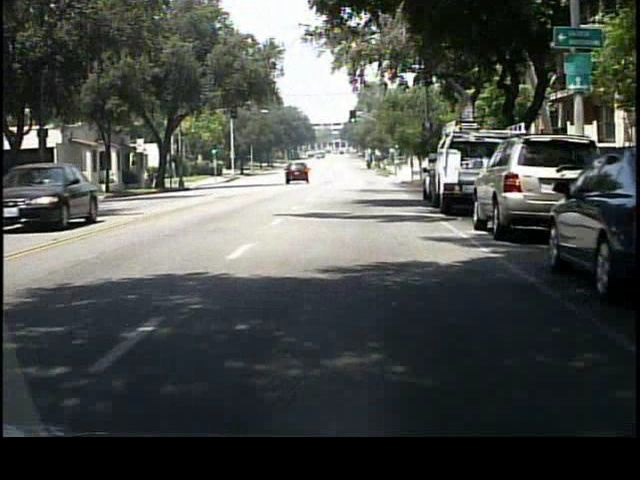person: (143, 170, 153, 192)
